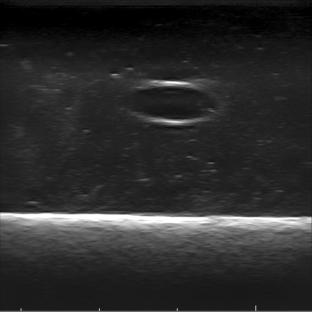vessel: (124, 80, 220, 126)
